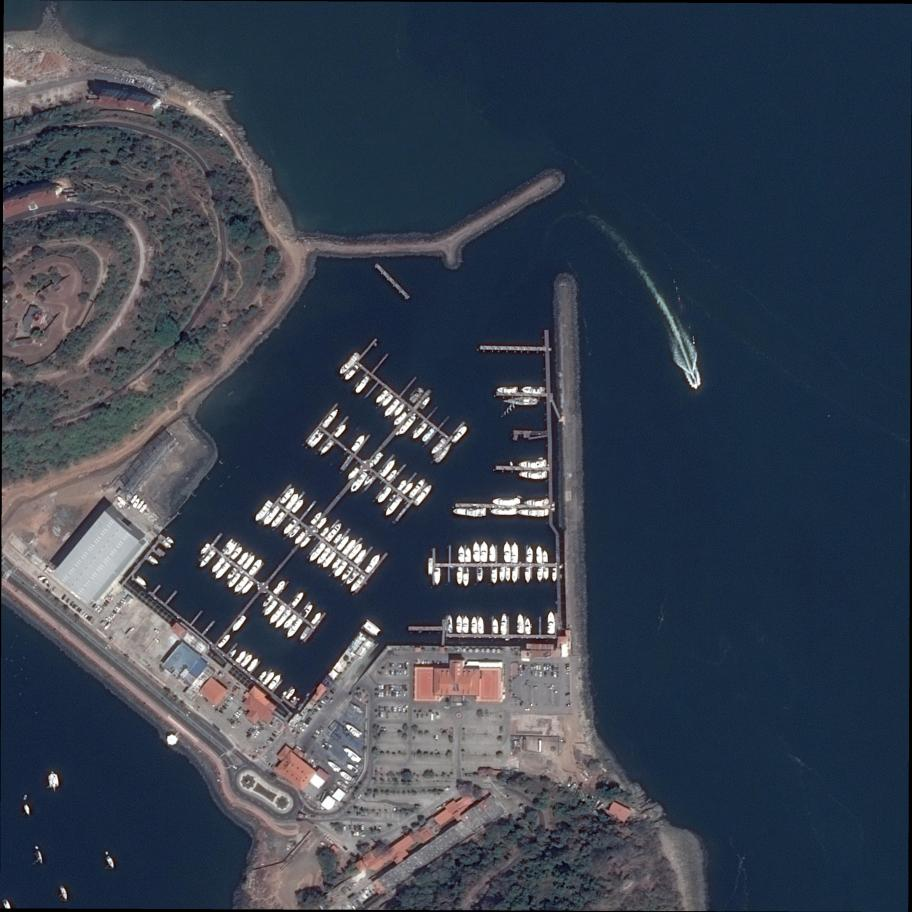ship: (338, 351, 361, 375), (348, 471, 369, 495), (253, 499, 274, 522), (413, 483, 433, 507), (383, 495, 403, 517), (267, 604, 287, 626), (324, 521, 343, 543), (398, 414, 417, 436), (434, 442, 453, 464), (262, 505, 281, 526), (308, 542, 327, 563), (273, 609, 292, 630), (285, 618, 304, 639), (408, 477, 426, 499), (321, 408, 339, 430), (450, 425, 469, 445), (382, 398, 401, 418), (362, 619, 382, 638), (198, 549, 217, 569), (364, 553, 382, 574), (353, 374, 371, 394), (342, 747, 362, 765), (504, 397, 539, 407), (411, 422, 429, 441), (347, 541, 364, 561), (430, 436, 447, 456), (349, 574, 366, 594), (376, 486, 393, 505), (379, 459, 396, 478), (344, 723, 363, 740), (233, 575, 250, 594), (279, 487, 296, 505), (453, 508, 487, 517), (214, 562, 231, 580), (316, 546, 332, 565), (350, 434, 366, 453), (231, 614, 247, 633), (289, 591, 305, 610), (270, 511, 286, 529), (409, 386, 425, 404), (344, 364, 360, 382), (368, 451, 384, 469), (321, 551, 337, 569), (333, 560, 349, 578), (247, 558, 263, 576), (282, 613, 298, 631), (282, 519, 298, 536), (210, 557, 226, 574), (342, 538, 357, 556), (227, 571, 242, 589), (263, 599, 278, 617), (320, 439, 335, 456), (353, 548, 368, 565), (285, 493, 300, 510), (374, 388, 389, 405), (267, 674, 282, 691), (520, 471, 547, 480), (309, 432, 324, 448), (393, 411, 408, 427), (421, 427, 436, 443), (340, 566, 355, 582), (345, 570, 360, 586), (240, 579, 255, 595), (336, 534, 350, 551), (307, 429, 321, 445), (519, 460, 547, 468), (217, 633, 231, 649), (236, 550, 250, 566), (242, 554, 256, 570), (272, 579, 286, 595), (492, 497, 520, 505), (518, 510, 549, 517), (491, 508, 518, 516), (346, 466, 360, 481), (326, 759, 341, 773), (261, 671, 275, 686), (221, 538, 235, 553), (291, 498, 304, 514), (381, 393, 394, 408), (419, 396, 432, 411), (393, 403, 406, 418), (240, 653, 253, 668), (246, 657, 259, 672), (225, 541, 238, 556), (301, 604, 314, 619), (547, 611, 555, 634), (363, 473, 376, 487), (310, 511, 323, 525), (288, 525, 301, 539), (401, 482, 414, 496), (334, 424, 347, 438), (230, 546, 243, 560), (48, 773, 60, 788), (299, 626, 311, 641), (59, 885, 70, 901), (511, 542, 519, 564), (503, 541, 511, 563), (385, 469, 398, 482), (316, 516, 328, 530), (294, 531, 306, 545), (521, 386, 545, 393), (339, 770, 353, 782), (105, 855, 117, 869), (199, 542, 211, 556), (310, 611, 322, 625), (262, 594, 274, 608), (349, 703, 364, 714), (299, 536, 311, 549), (235, 650, 247, 663), (500, 613, 507, 635), (524, 499, 549, 505), (517, 613, 524, 634), (481, 541, 488, 562), (473, 541, 480, 562), (331, 558, 343, 570), (346, 763, 359, 774), (135, 576, 148, 587), (227, 567, 238, 580), (34, 850, 44, 864), (463, 567, 470, 587), (477, 616, 484, 635), (319, 526, 330, 538), (396, 479, 407, 491), (285, 688, 296, 700), (497, 387, 518, 393), (456, 615, 463, 633), (489, 544, 496, 562), (690, 377, 699, 391), (257, 670, 268, 681), (116, 495, 127, 506), (333, 533, 343, 545), (524, 567, 531, 584), (536, 546, 543, 563), (458, 546, 465, 563), (148, 555, 159, 565), (138, 503, 148, 514), (463, 616, 469, 634), (447, 615, 453, 633), (435, 567, 441, 585), (537, 567, 544, 582), (471, 617, 477, 634), (512, 567, 518, 584), (457, 567, 463, 584), (2, 898, 11, 909), (136, 499, 145, 510), (132, 498, 141, 509), (130, 494, 139, 505), (499, 567, 506, 581), (527, 547, 533, 563), (525, 618, 531, 634), (492, 619, 498, 634), (23, 804, 31, 815), (428, 558, 433, 575), (552, 568, 558, 582), (543, 567, 549, 581), (505, 567, 511, 581), (228, 649, 237, 658), (166, 536, 175, 545), (162, 541, 172, 549), (492, 568, 497, 584), (478, 567, 483, 582), (466, 548, 471, 563), (293, 697, 301, 706), (310, 758, 317, 768), (354, 763, 362, 771), (280, 690, 288, 698), (348, 882, 357, 889), (321, 744, 330, 751), (543, 551, 548, 563), (389, 494, 396, 502), (324, 741, 332, 748), (290, 696, 297, 703), (23, 794, 28, 801)
small-vehicle: (155, 638, 162, 644), (320, 699, 326, 705), (300, 727, 306, 733), (275, 729, 281, 734), (225, 700, 231, 705), (95, 605, 100, 611), (315, 729, 321, 734), (303, 722, 309, 727), (269, 737, 274, 742), (272, 733, 277, 738), (274, 731, 279, 736), (101, 604, 106, 609), (97, 608, 102, 613), (236, 711, 241, 716), (234, 713, 239, 718), (82, 612, 87, 617), (539, 672, 543, 678), (313, 733, 318, 737), (311, 736, 316, 740), (219, 710, 224, 714), (224, 704, 229, 708), (229, 695, 233, 700), (106, 618, 111, 622), (108, 616, 113, 620), (110, 614, 115, 618), (111, 612, 116, 616), (114, 608, 119, 612), (116, 606, 121, 610), (117, 604, 122, 608), (120, 600, 125, 604), (122, 598, 127, 602), (103, 602, 107, 607), (91, 601, 95, 606), (238, 709, 243, 713), (72, 603, 76, 608), (66, 598, 70, 603), (62, 594, 66, 599), (223, 706, 227, 710), (105, 600, 109, 604), (323, 698, 327, 702), (88, 616, 92, 620), (84, 614, 88, 618), (70, 602, 74, 606), (52, 587, 56, 591), (155, 630, 159, 634), (267, 741, 272, 744), (381, 692, 384, 697), (554, 672, 557, 677), (391, 685, 394, 690), (396, 692, 399, 697), (113, 611, 117, 614), (93, 604, 96, 608), (398, 707, 401, 711), (381, 713, 383, 719), (87, 615, 90, 619), (77, 607, 80, 611), (74, 605, 77, 609), (544, 665, 546, 670), (547, 665, 549, 670), (382, 685, 384, 690), (379, 692, 381, 697), (394, 707, 396, 712), (403, 707, 405, 712), (387, 713, 389, 718), (436, 735, 438, 740), (78, 609, 81, 612), (535, 672, 537, 676), (378, 685, 380, 689), (386, 692, 388, 696), (379, 707, 381, 711), (382, 707, 384, 711), (384, 707, 386, 711), (387, 707, 389, 711), (391, 707, 393, 711), (362, 825, 363, 830)
